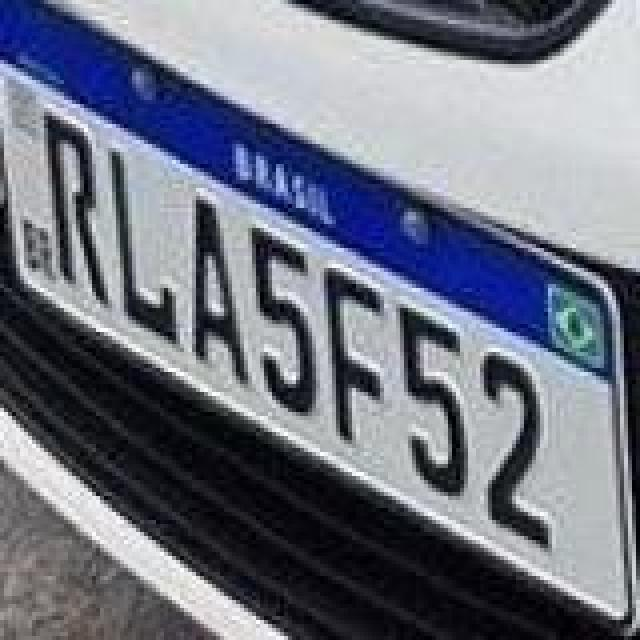2: (480, 354, 552, 558)
5: (396, 302, 468, 498), (250, 222, 318, 418)
A: (196, 194, 252, 390)
F: (320, 262, 384, 442)
L: (108, 148, 180, 348)
R: (44, 108, 116, 308)
